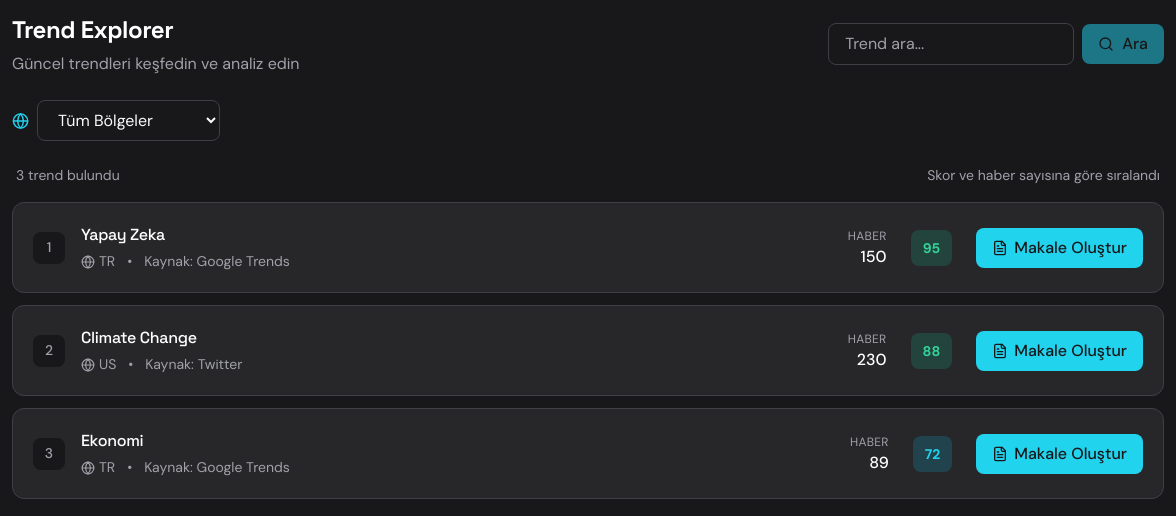
Test: TrendExplorer › Search functionality › filters trends by keyword
Expected: the heading "Yapay Zeka" is shown, [81,224,165,245]
Step 1. Type "Yapay" into the field labelled "Trend ara" → (951, 44), box [828,23,1074,65]
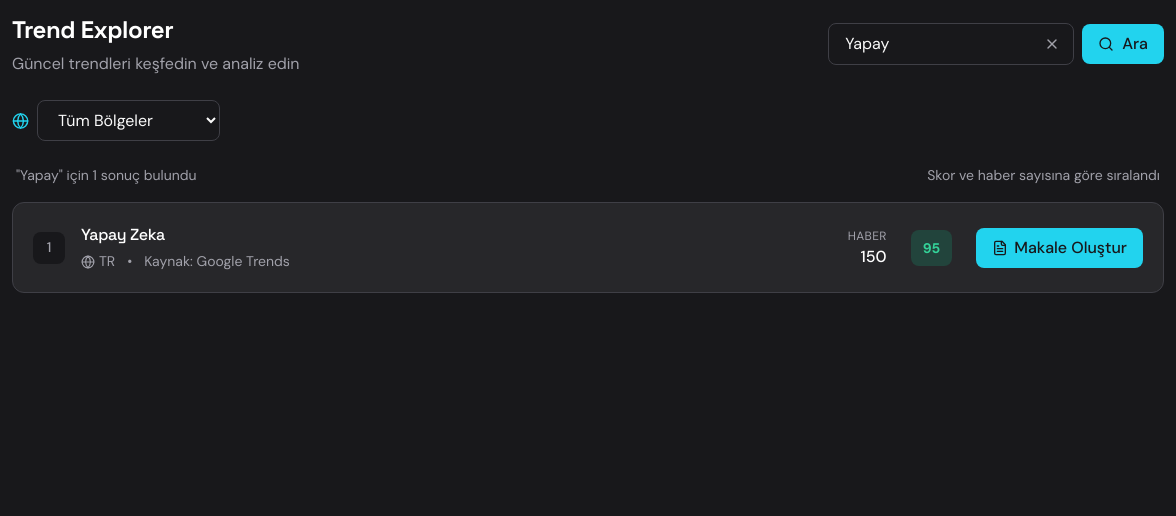
Expected: the text "\"Yapay\" için 1 sonuç bulundu" is shown, [16,165,196,186]
Expected: the button "Climate Change" is gone
Expected: the button "Ekonomi" is gone
